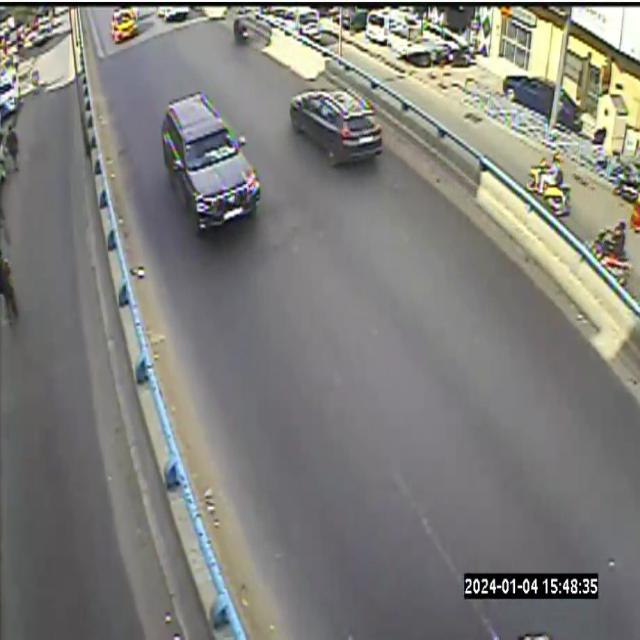car: (162, 93, 261, 232), (289, 89, 383, 165), (111, 8, 138, 43)
